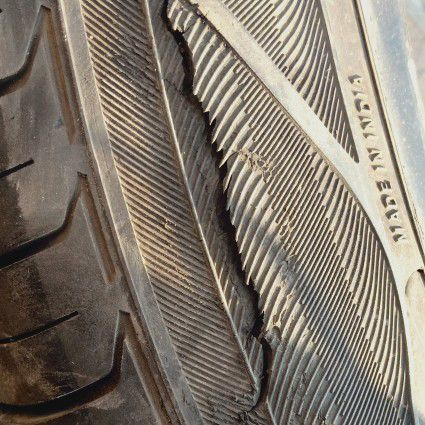cut: (157, 1, 273, 412)
